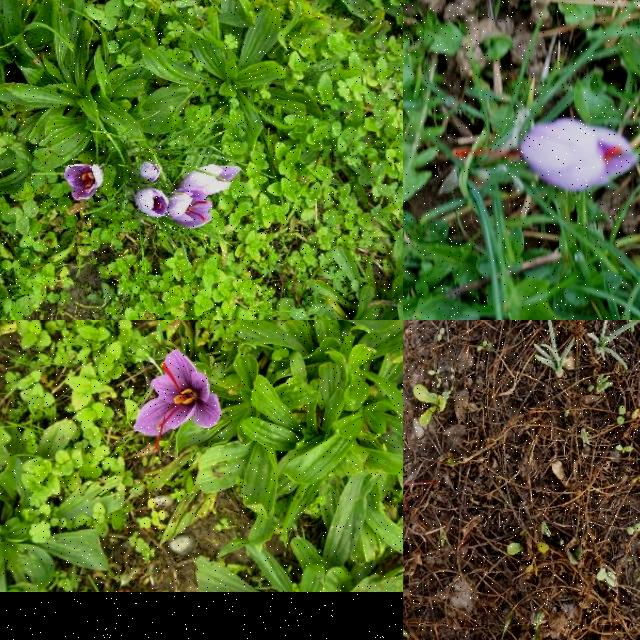flower: (452, 119, 638, 191), (136, 350, 222, 452), (182, 164, 242, 196), (168, 188, 212, 228), (66, 166, 105, 202), (136, 188, 170, 220), (140, 161, 164, 183)
